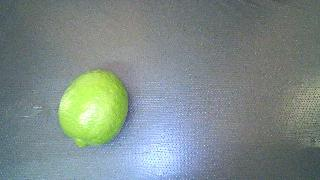EXPORTACION: (58, 70, 129, 147)
